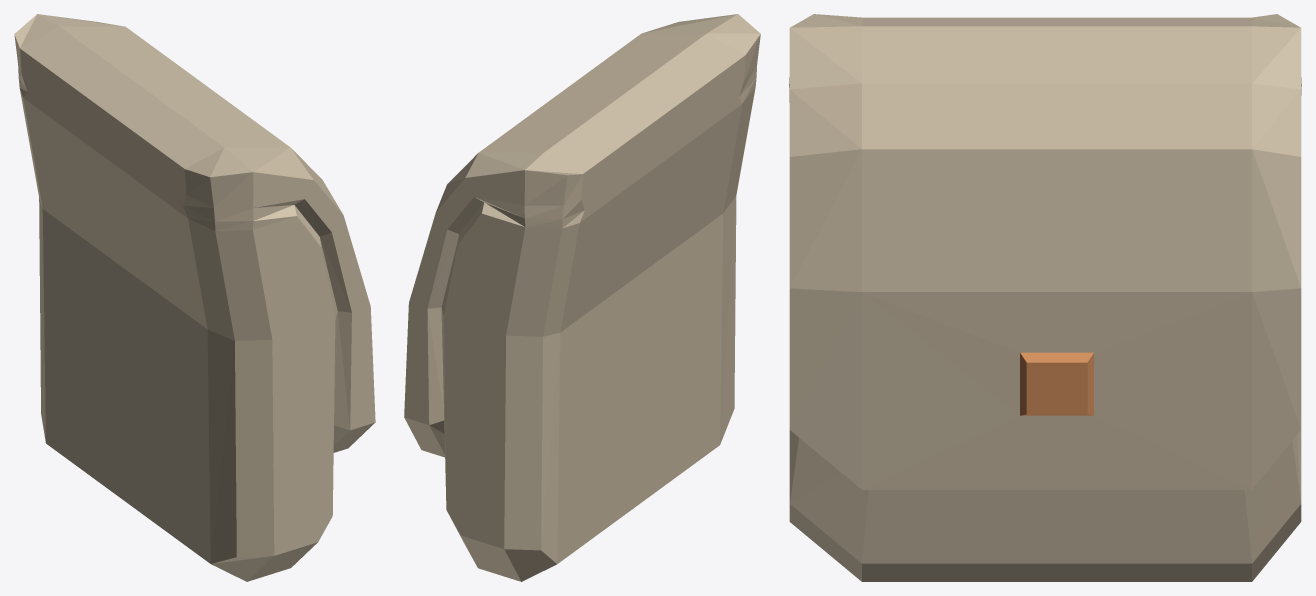
Rendered from SM_Item_Pouch_Attachment_02.glb.
The picture shows the model from 3 angles, left to right: view 1: azimuth 30°, elevation 25°; view 2: azimuth 150°, elevation 25°; view 3: azimuth 270°, elevation 25°; orthographic projection. The views are drawn at different scales.
Parts seen in each view (by area): view 1: SM_Item_Pouch_Attachment_02_00; view 2: SM_Item_Pouch_Attachment_02_00; view 3: SM_Item_Pouch_Attachment_02_00.
Part boxes in pixels (box(x1,y1,x2,y2)): SM_Item_Pouch_Attachment_02_00: box(14, 14, 375, 581); SM_Item_Pouch_Attachment_02_00: box(404, 14, 760, 581); SM_Item_Pouch_Attachment_02_00: box(789, 14, 1301, 581).
Size of the model in its own units: 0.0999 by 0.2467 by 0.2201.
1 material, 1 textured.
